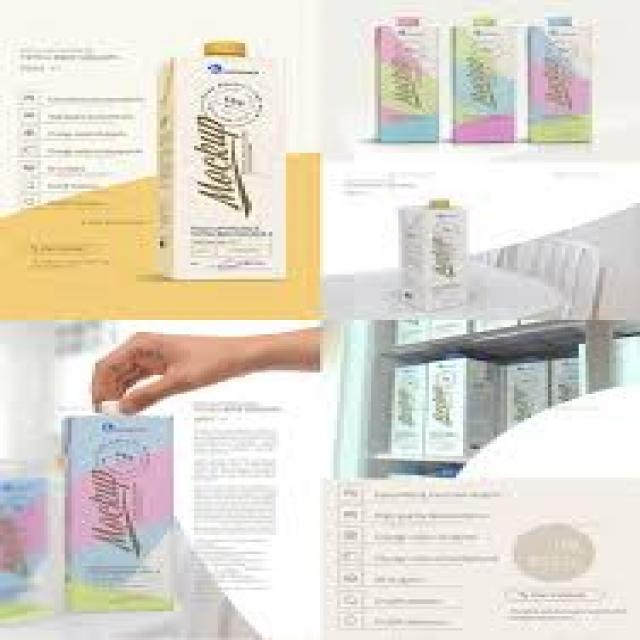non_white_jug: (153, 35, 296, 302), (60, 394, 189, 619), (387, 191, 502, 313), (357, 17, 446, 153), (453, 17, 524, 162), (528, 15, 602, 152)
